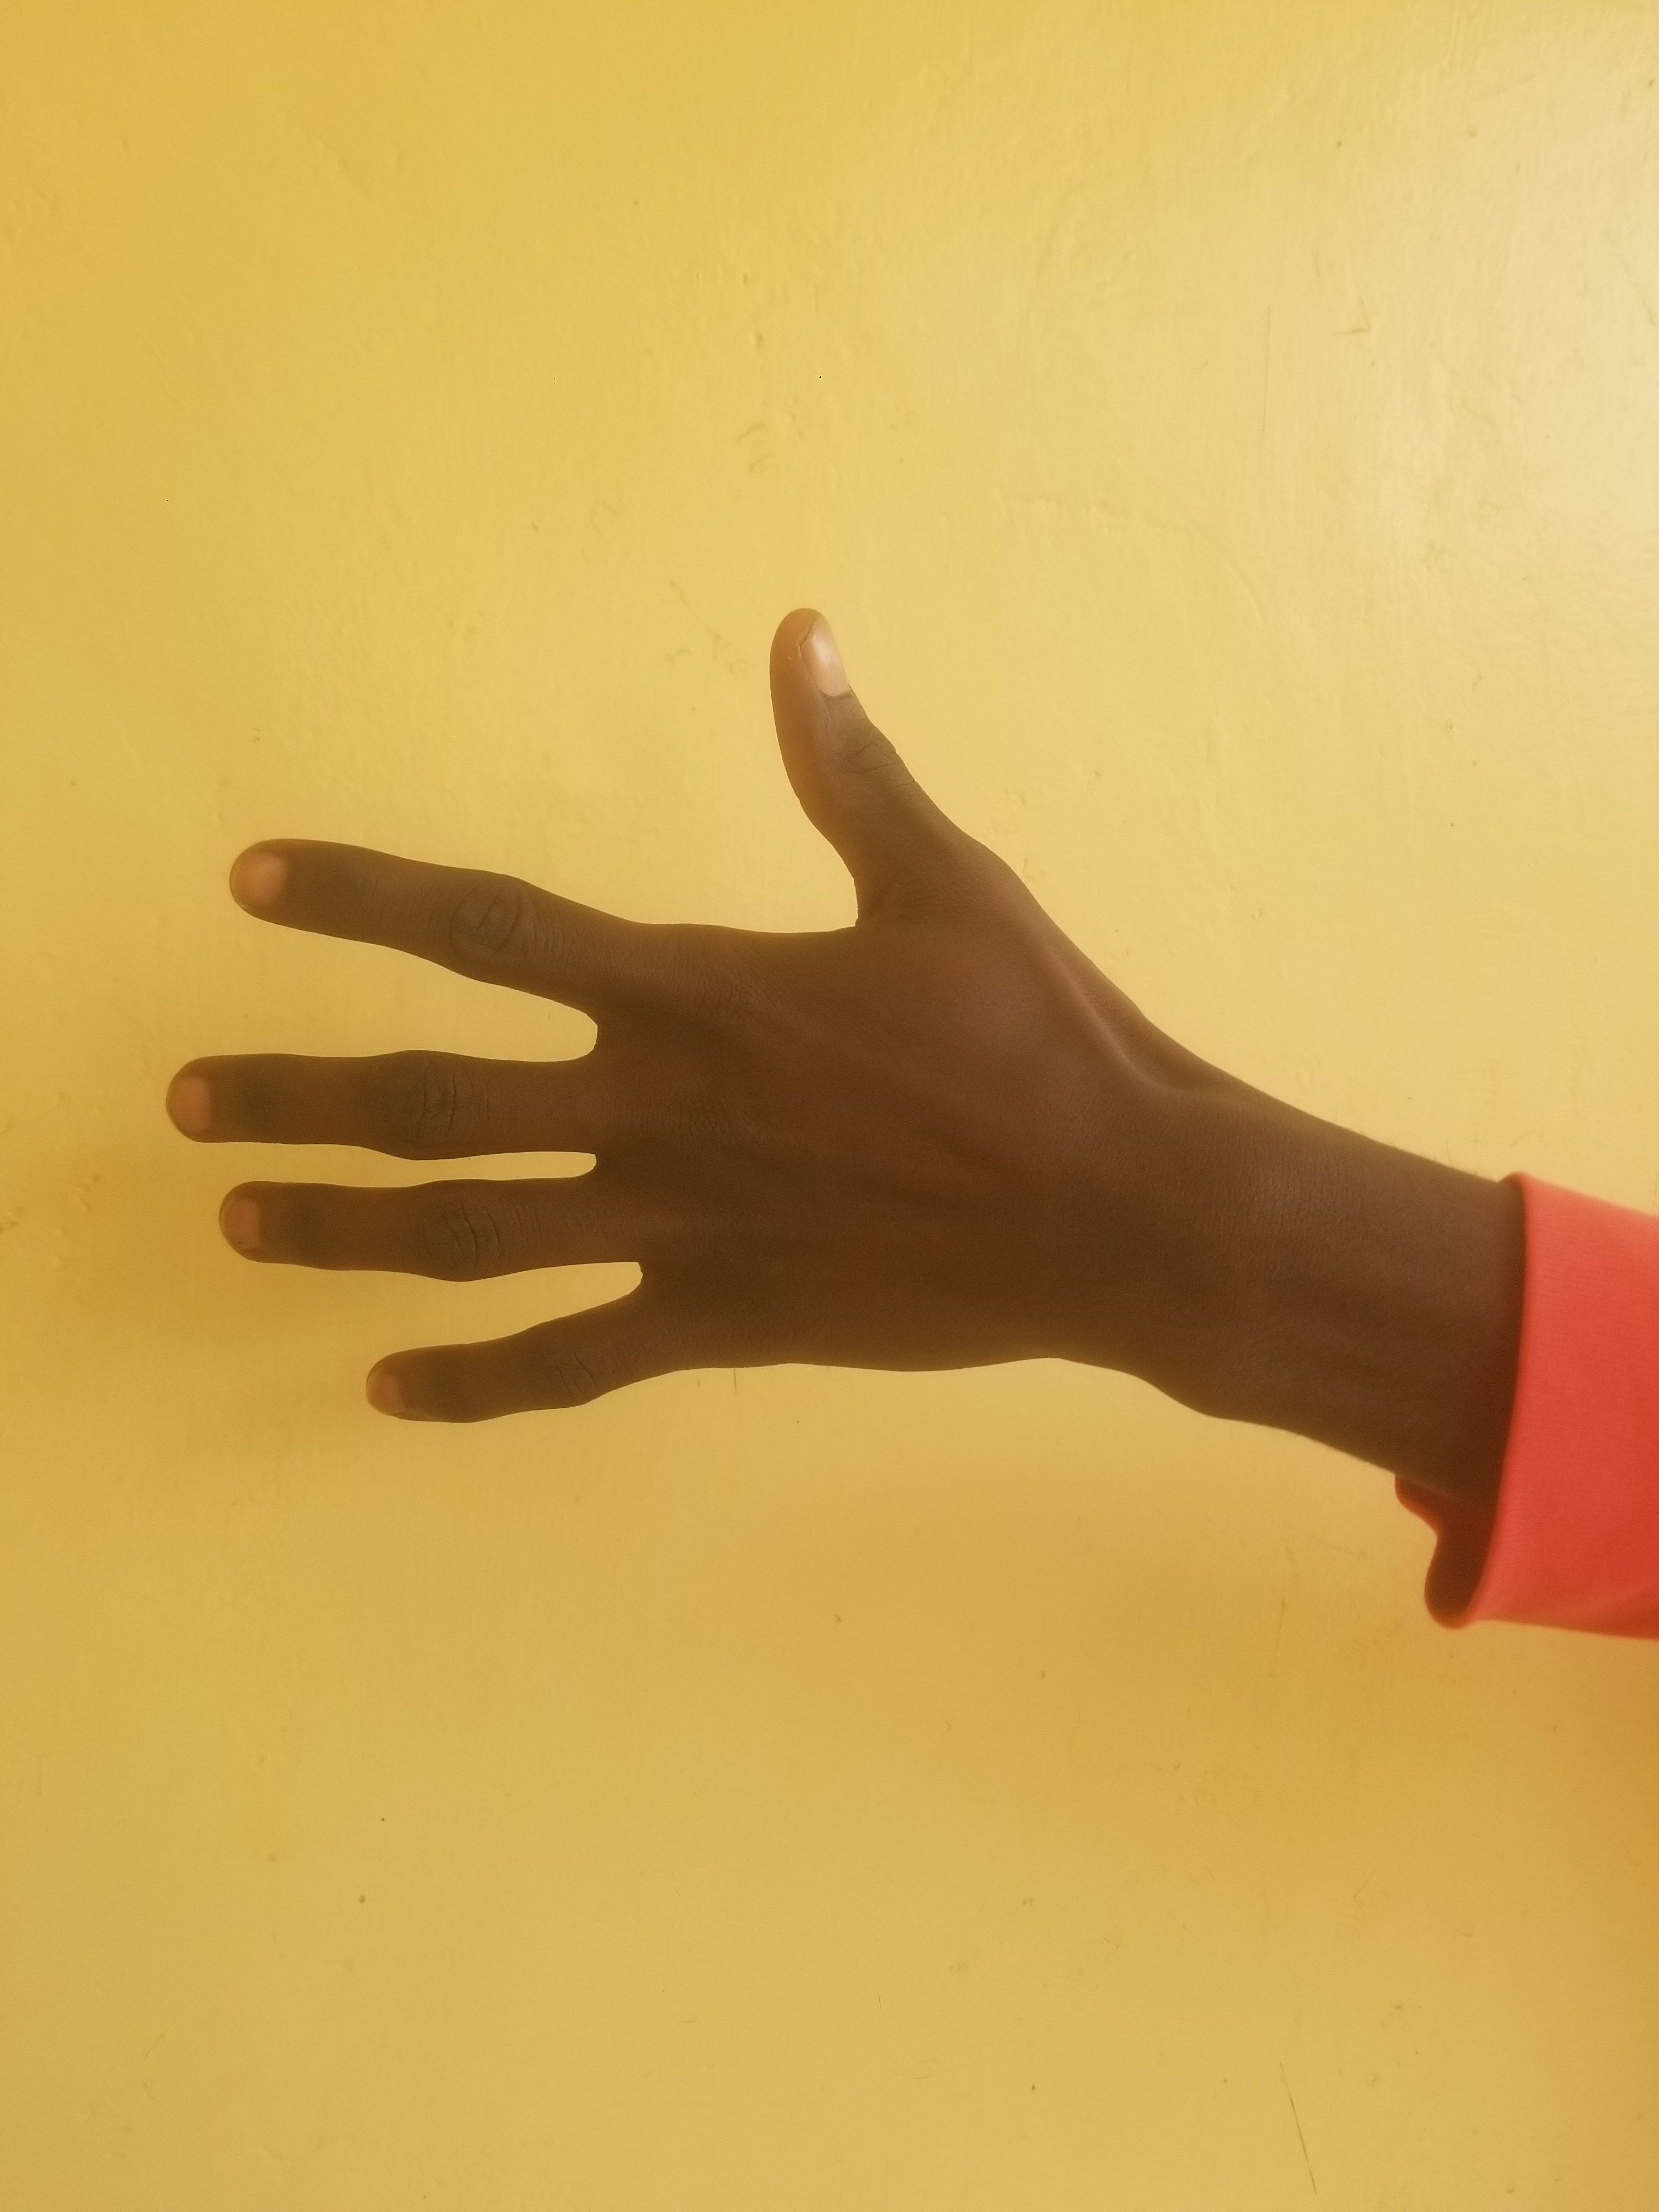open palm: (84, 444, 1403, 1778)
